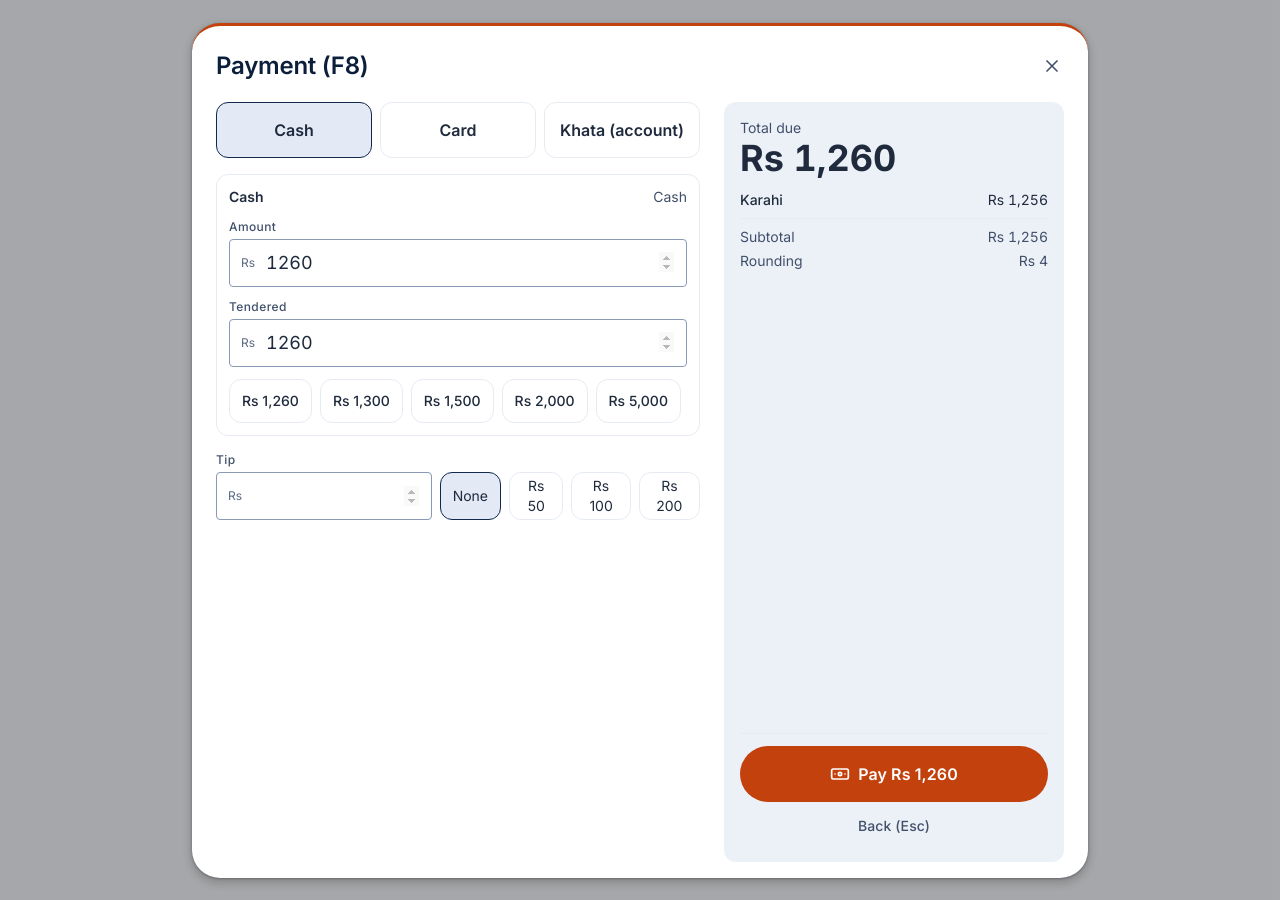
Test case: PaymentDialog khata over the limit › refuses an account sale that passes the saved limit while offline, and says why
The width and height of the screenshot is (1280, 900).
Click the button "Khata (account)".
click(622, 130)  # box [544, 102, 700, 158]
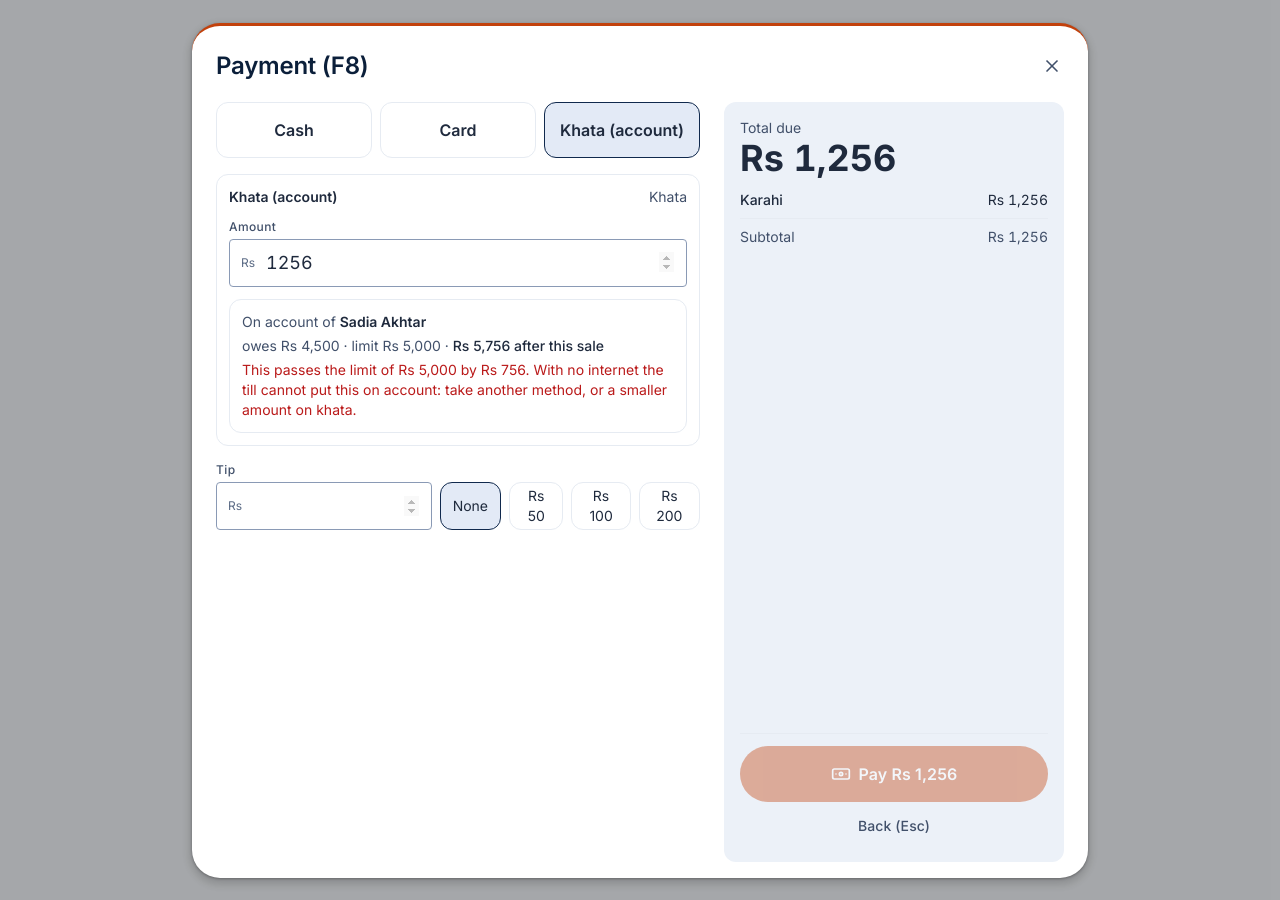
expect the text "With no internet the till cannot put this on account" is shown: met, box [242, 360, 667, 418]
expect the button "Pay Rs 1,256" is disabled: met, box [740, 746, 1048, 802]
